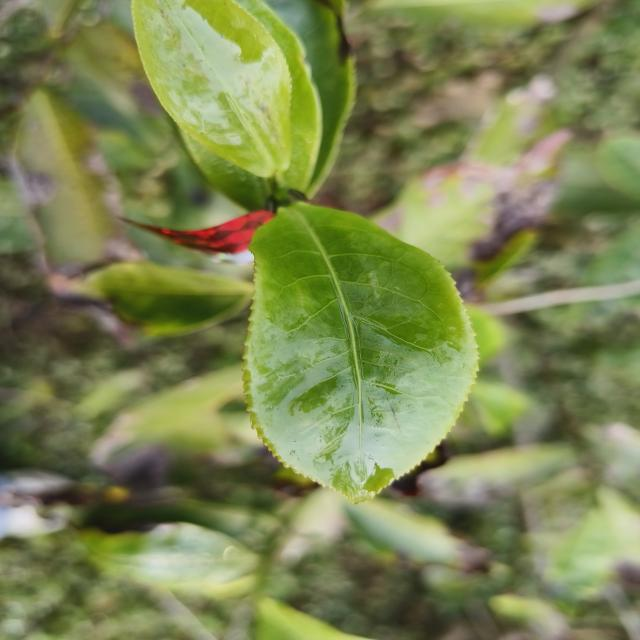Leaf: (243, 202, 477, 502), (373, 130, 571, 290), (132, 0, 291, 178), (17, 90, 131, 266), (73, 261, 252, 336), (83, 522, 258, 597), (417, 443, 576, 506), (346, 498, 485, 567), (544, 512, 621, 610)
